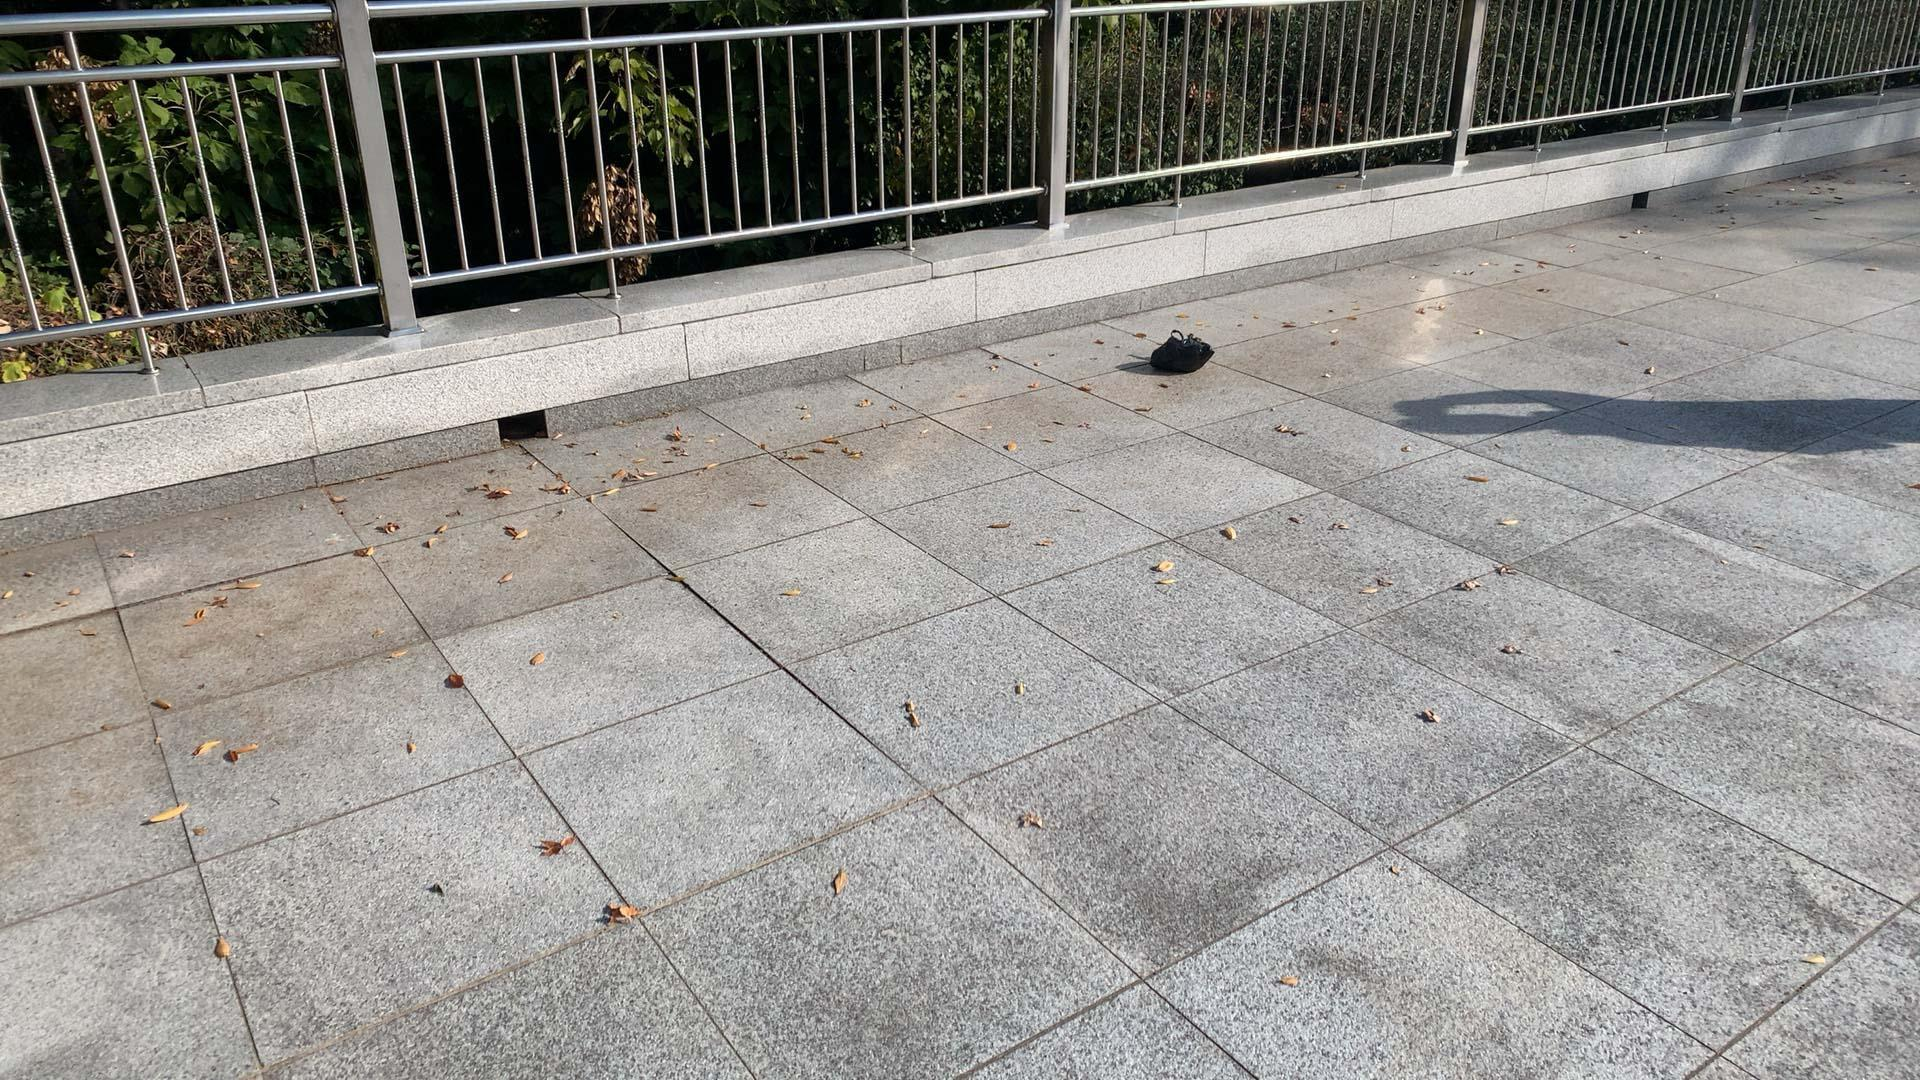black_bag: (1139, 326, 1216, 375)
